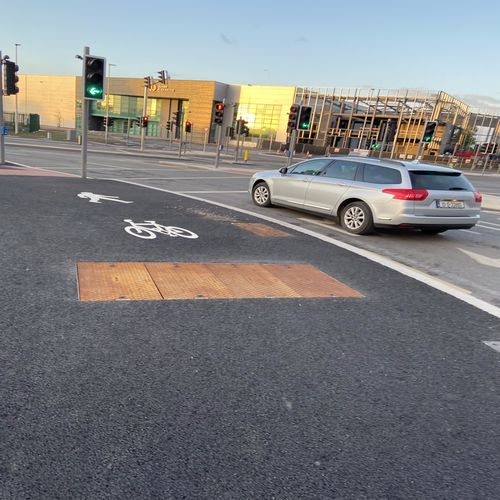Bicycle Crossing: (116, 213, 200, 244)
Car: (245, 152, 485, 240)
Traffic Light: (79, 50, 110, 106), (2, 58, 23, 101), (212, 102, 228, 137)
